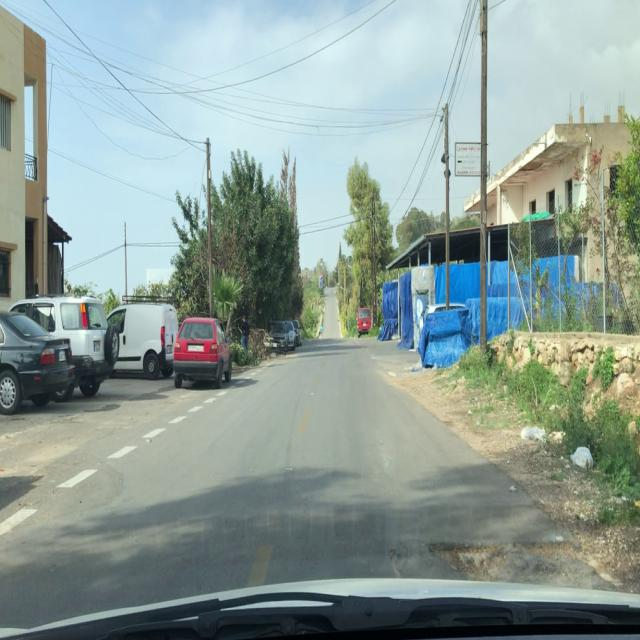Pothole: (423, 536, 594, 590)
